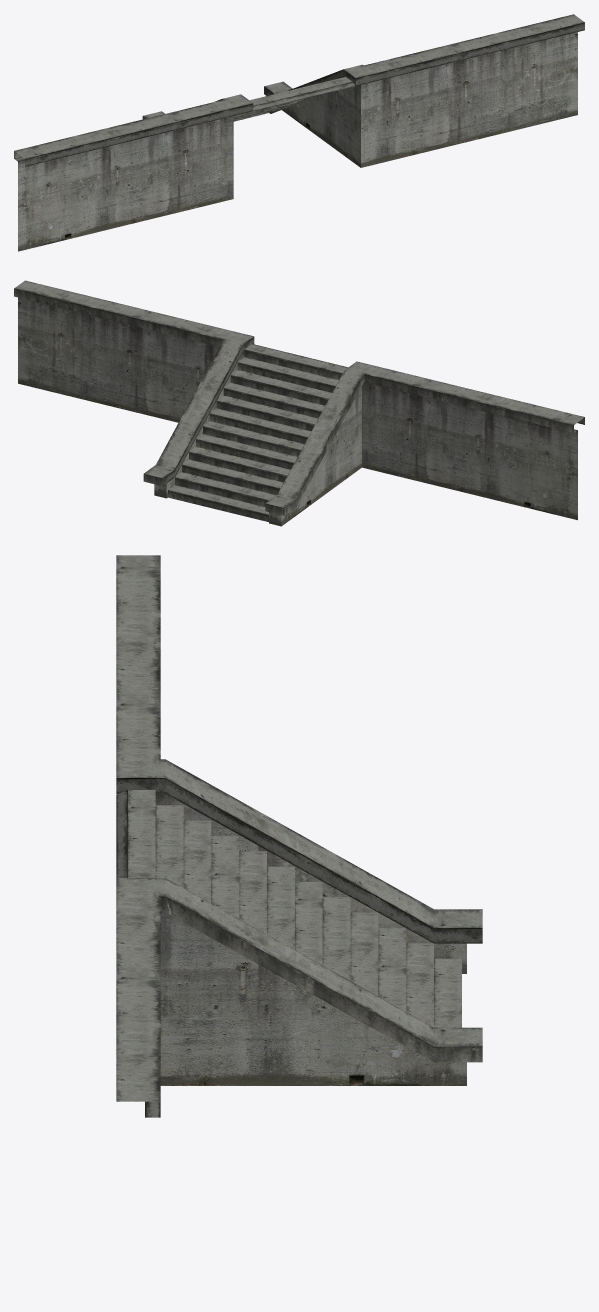
File: UNIConcrete_wall_v1_S_middle.glb
The picture shows the model from 3 angles, top to bottom: view 1: azimuth 30°, elevation 25°; view 2: azimuth 150°, elevation 25°; view 3: azimuth 270°, elevation 25°; orthographic projection. The views are drawn at different scales.
Visible parts, largest first — view 1: UNIConcrete_wall_v1_S_middle; view 2: UNIConcrete_wall_v1_S_middle; view 3: UNIConcrete_wall_v1_S_middle.
Boxes of the visible parts, x1,y1,x2,y2 form: UNIConcrete_wall_v1_S_middle: (14, 14, 584, 251); UNIConcrete_wall_v1_S_middle: (14, 280, 584, 526); UNIConcrete_wall_v1_S_middle: (116, 555, 482, 1117).
Size of the model in its own units: 10 by 1.67 by 2.83.
Materials: 1 (1 with a texture image).
